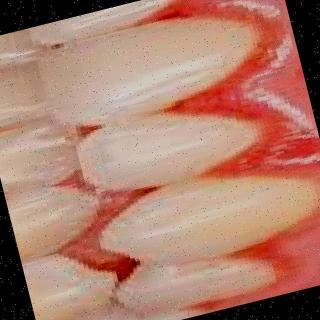Gum Swelling: (203, 0, 320, 304)
